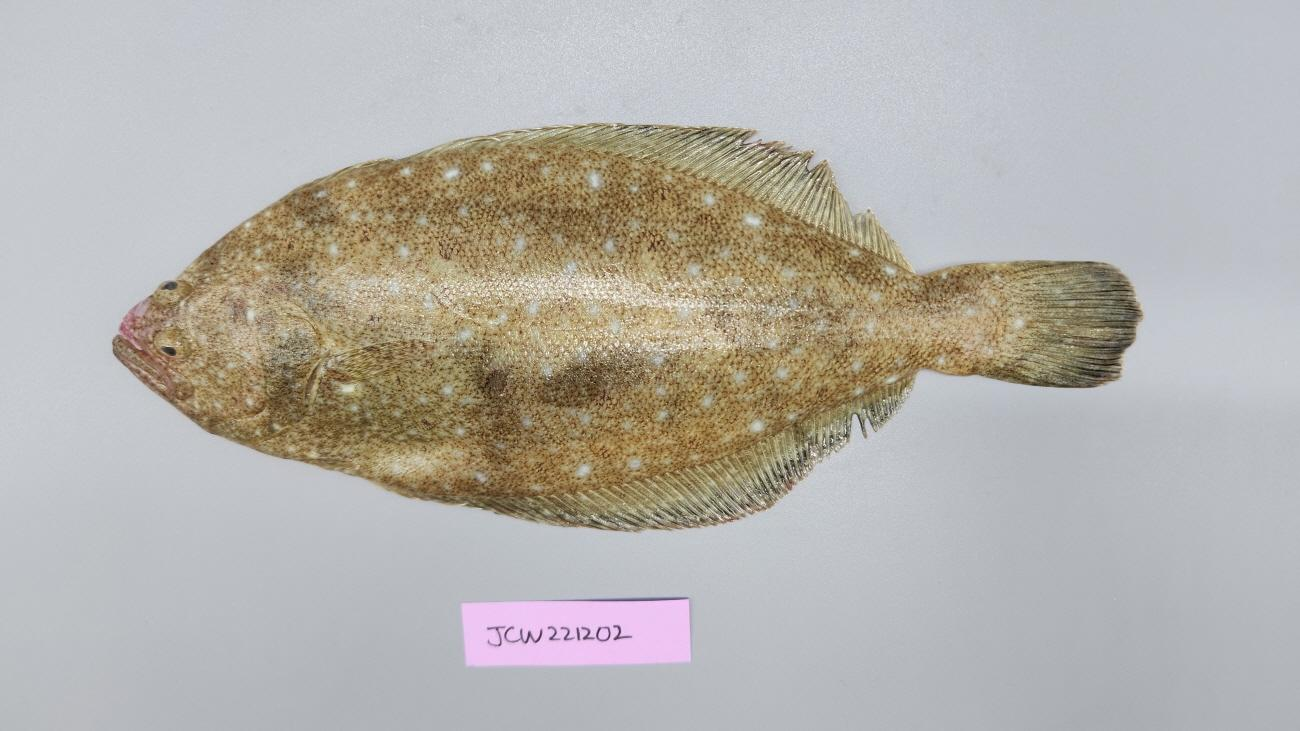VIMOU: (120, 322, 138, 342)
VIOUY: (110, 124, 1144, 533)
